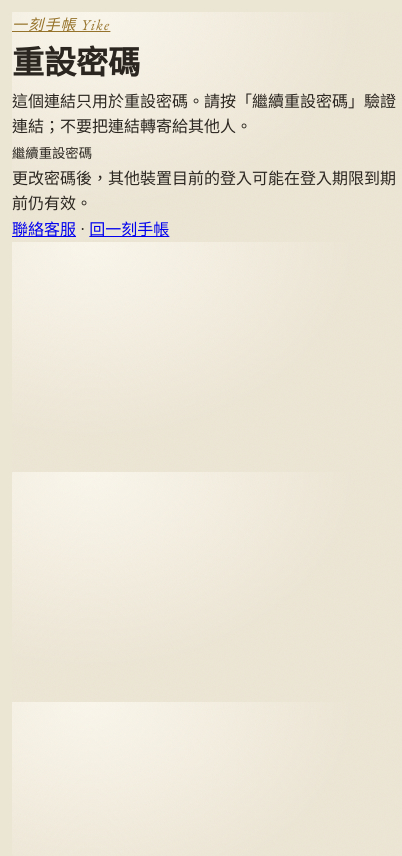
Scenario: expired link closes without a new email request path
Click the button "繼續重設密碼" at (52, 152), box [12,143,92,162]
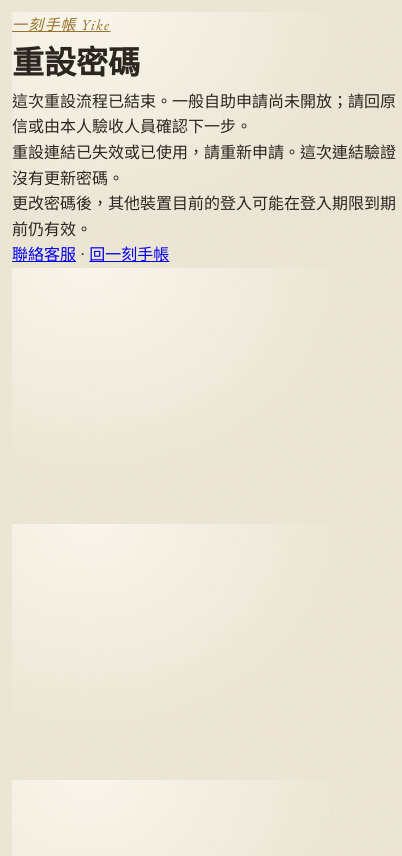
Result: the text "已失效" is shown at [12,140,401,191]
